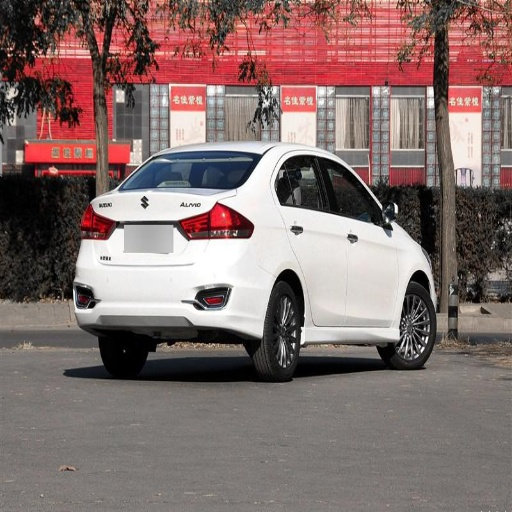back_bumper: (73, 239, 273, 337)
back_right_door: (274, 153, 346, 326)
tailgate: (94, 188, 209, 265)
trunk: (89, 193, 218, 265)
